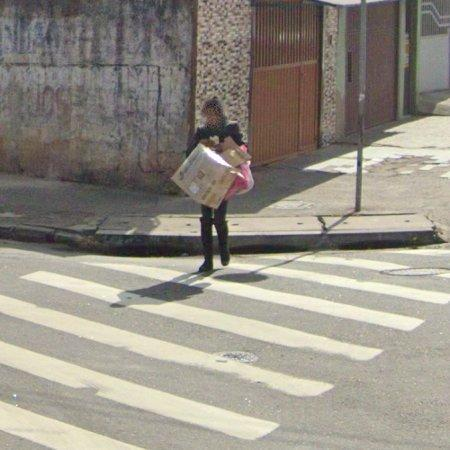crosswalks: (0, 253, 450, 450)
